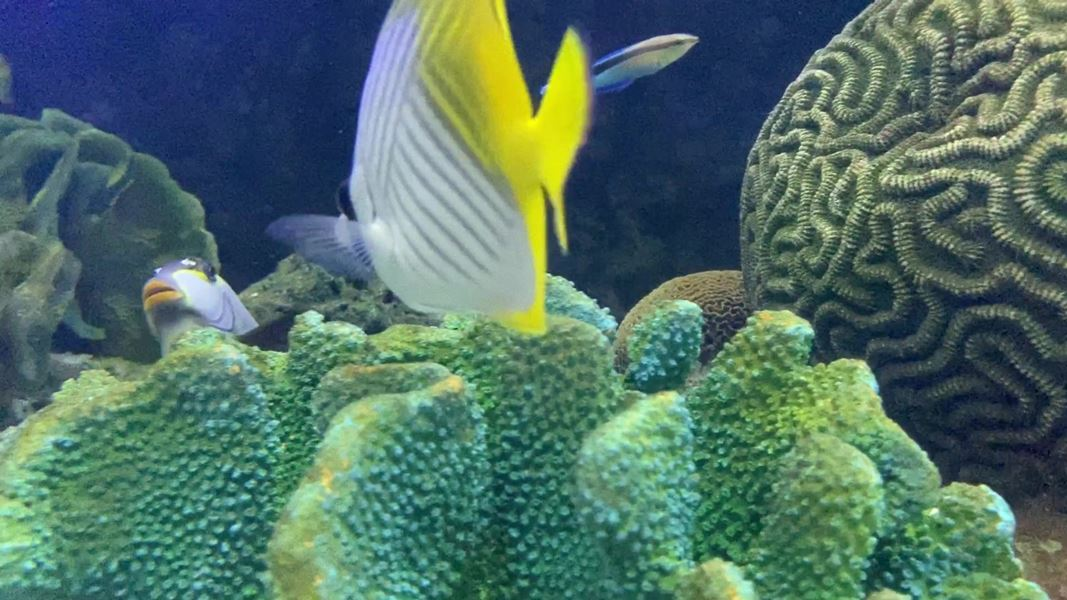Bluesteak cleaner wrasse: (537, 24, 711, 112)
